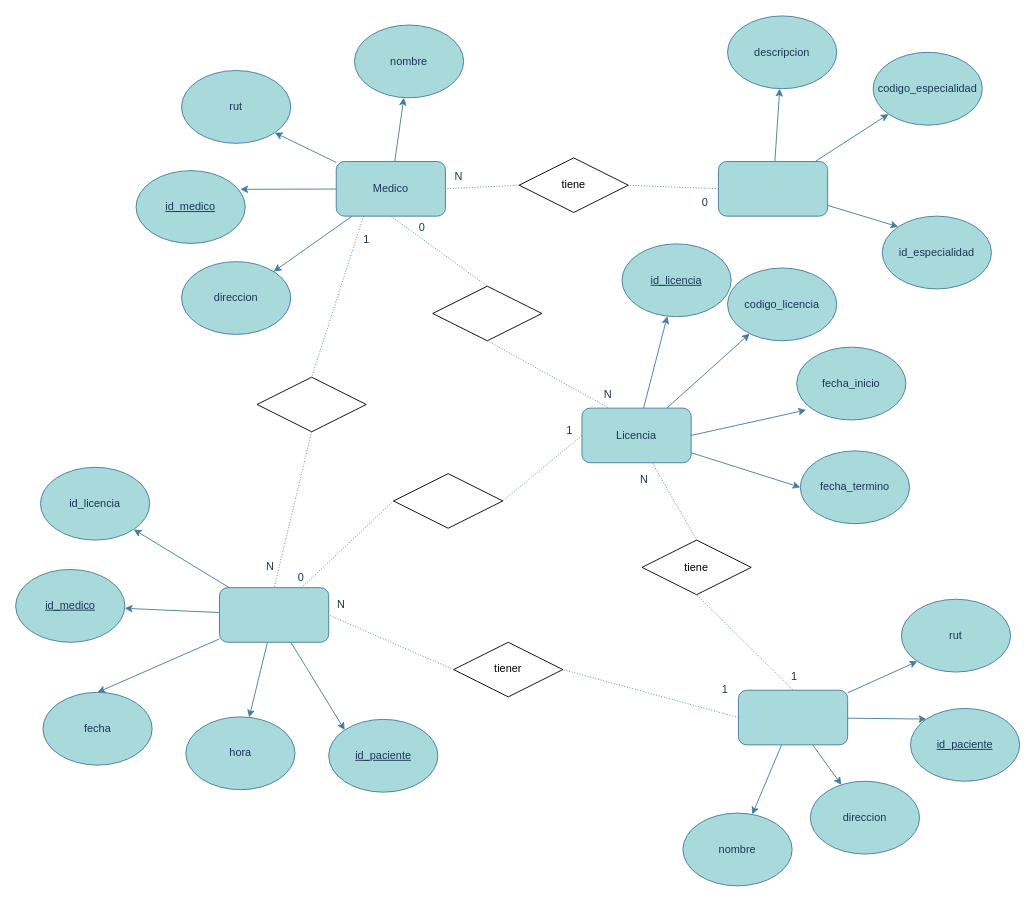
The diagram is 1036 pixels wide and 902 high, and some of its shapes have lost their labels. The centre of each missing label's shape, as x and y in pixels:
"Consulta" belongs at point (274, 614).
"emite" belongs at point (487, 313).
"Especidalidad" belongs at point (773, 188).
"Paciente" belongs at point (793, 717).
"realiza" belongs at point (311, 404).
"tener" belongs at point (448, 500).
